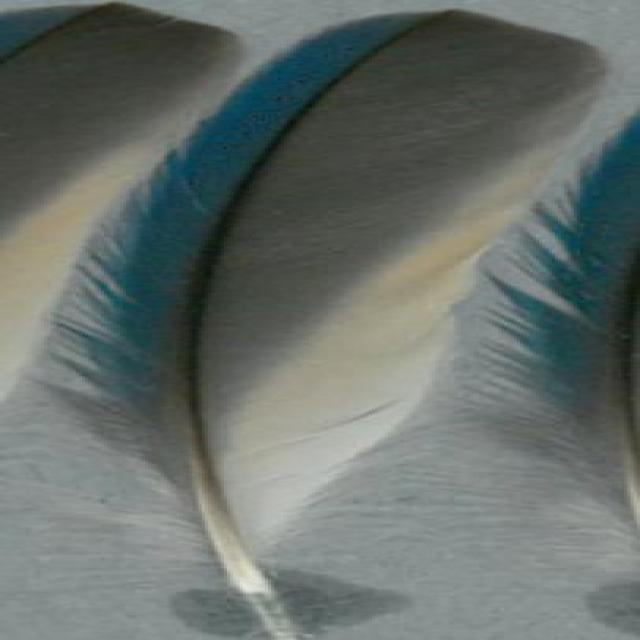feather: (35, 12, 607, 640), (413, 109, 640, 640)
